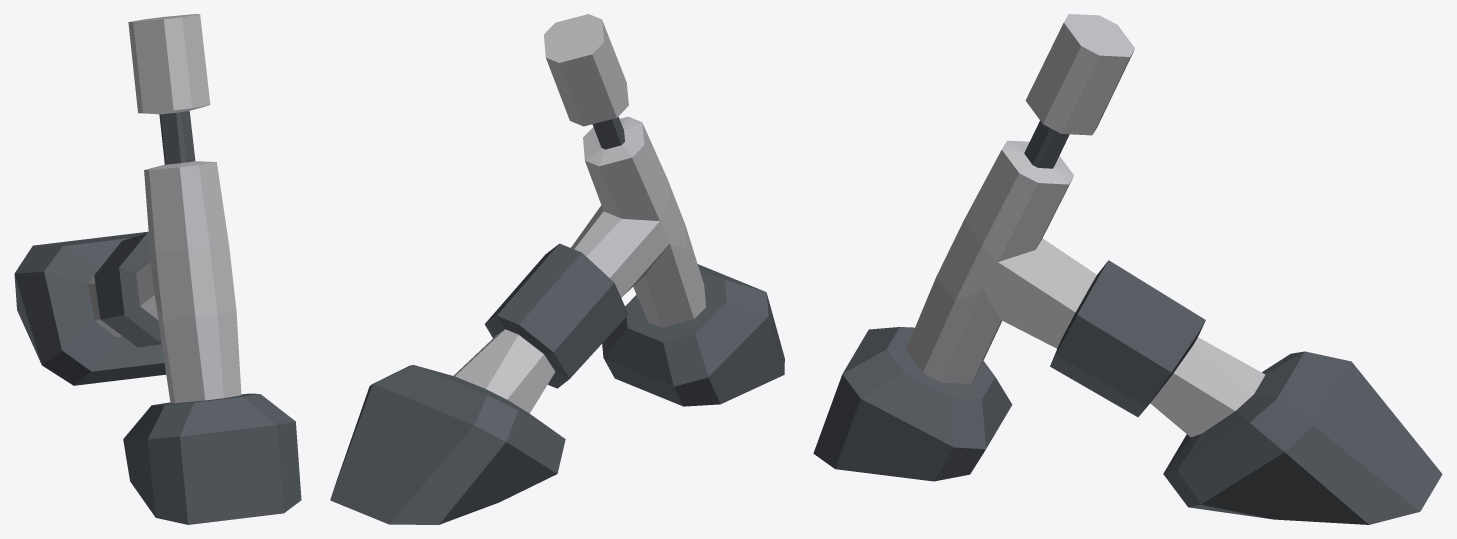
File: Dropship_04_Lander_Rear_Left.fbx
3 views of the same model, side by side, from view 1: azimuth 30°, elevation 25°; view 2: azimuth 150°, elevation 25°; view 3: azimuth 270°, elevation 25° (orthographic). The views are drawn at different scales.
Parts seen in each view (by area): view 1: Dropship_04_Lander_Rear_Left; view 2: Dropship_04_Lander_Rear_Left; view 3: Dropship_04_Lander_Rear_Left.
Boxes of the visible parts, <box> form: Dropship_04_Lander_Rear_Left: <box>14,14,301,524</box>; Dropship_04_Lander_Rear_Left: <box>330,14,784,524</box>; Dropship_04_Lander_Rear_Left: <box>813,14,1442,524</box>.
Bounding box in the file's own units: 136 × 227 × 289.
Materials: 1 (1 with a texture image).
